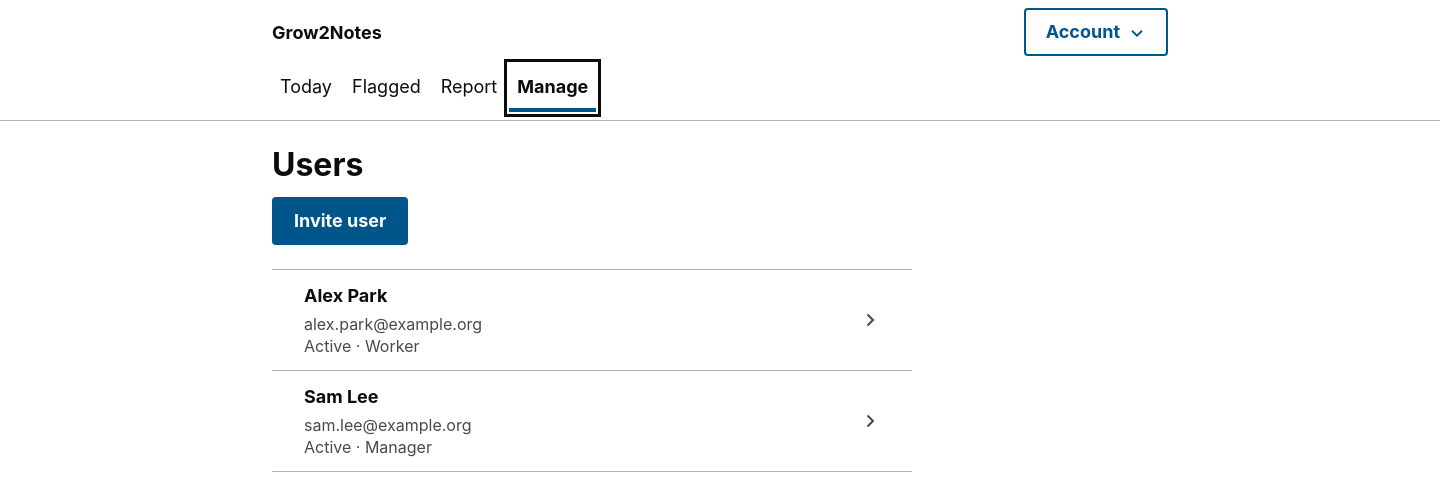
Scenario: a new screen › from the nav link Manage focuses the new screen's <h1> and scrolls to the top
This screenshot has width=1440, height=489.
(page scrolled)
Click the link "Manage" at (553, 88), box [509,64,596,112]
Wait 1 ms
(page scrolled)
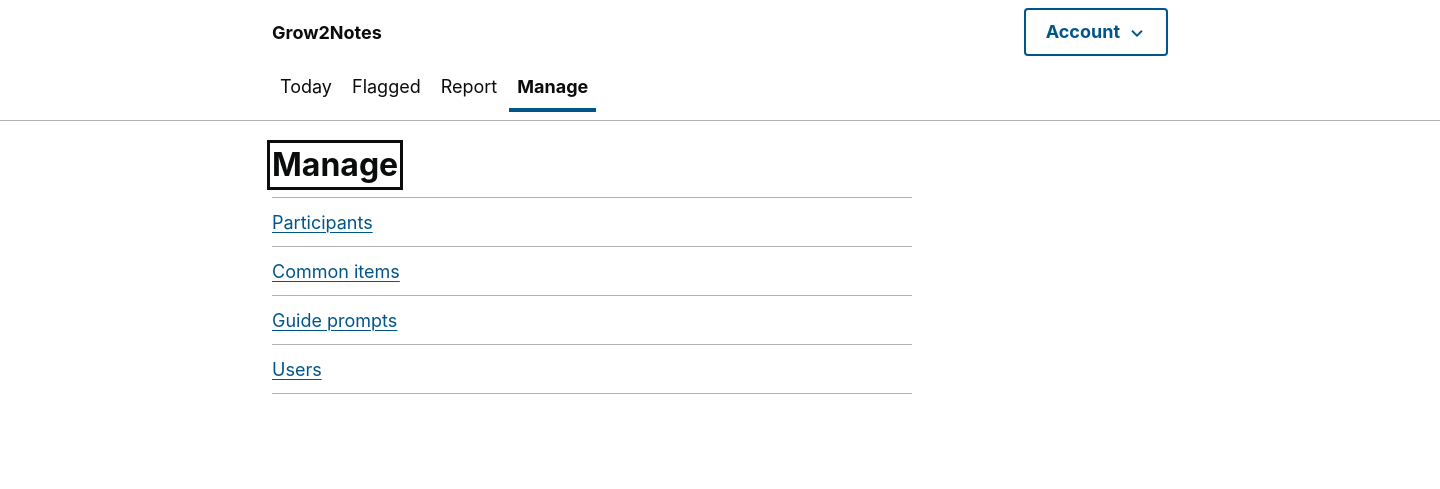
Expected: the heading reads "Manage", [272,145,398,184]
